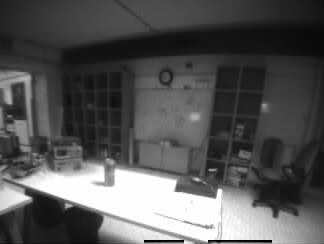Tin can: (104, 159, 116, 187)
